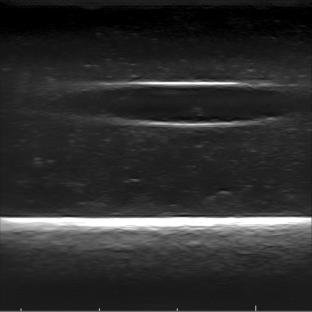vessel: (88, 79, 287, 131)
